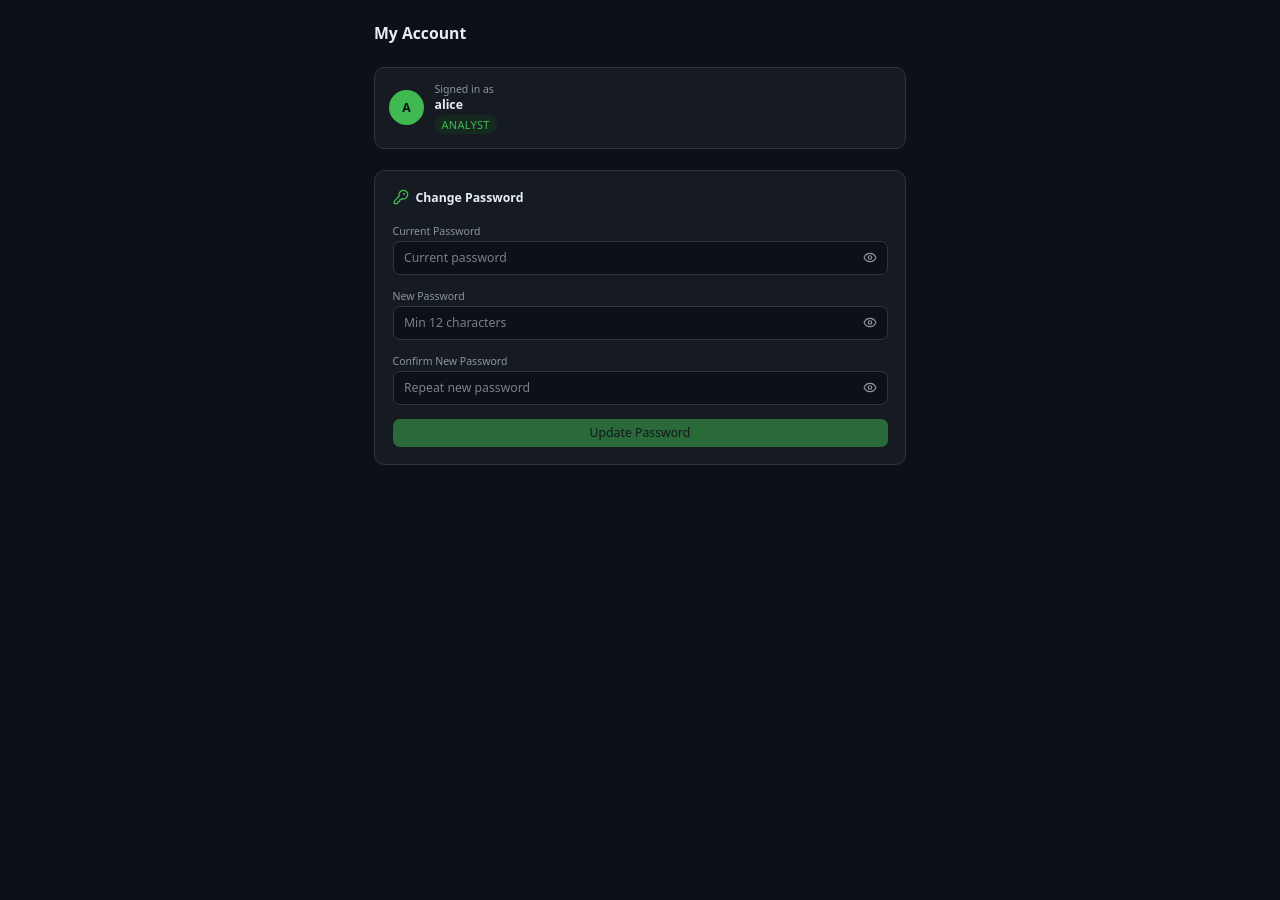
Account page › submits change-password and shows success toast
Type "oldpassword123!" into the password field with placeholder "Current Password".
click(640, 258); type("oldpassword123!")  # box [392, 241, 888, 274]
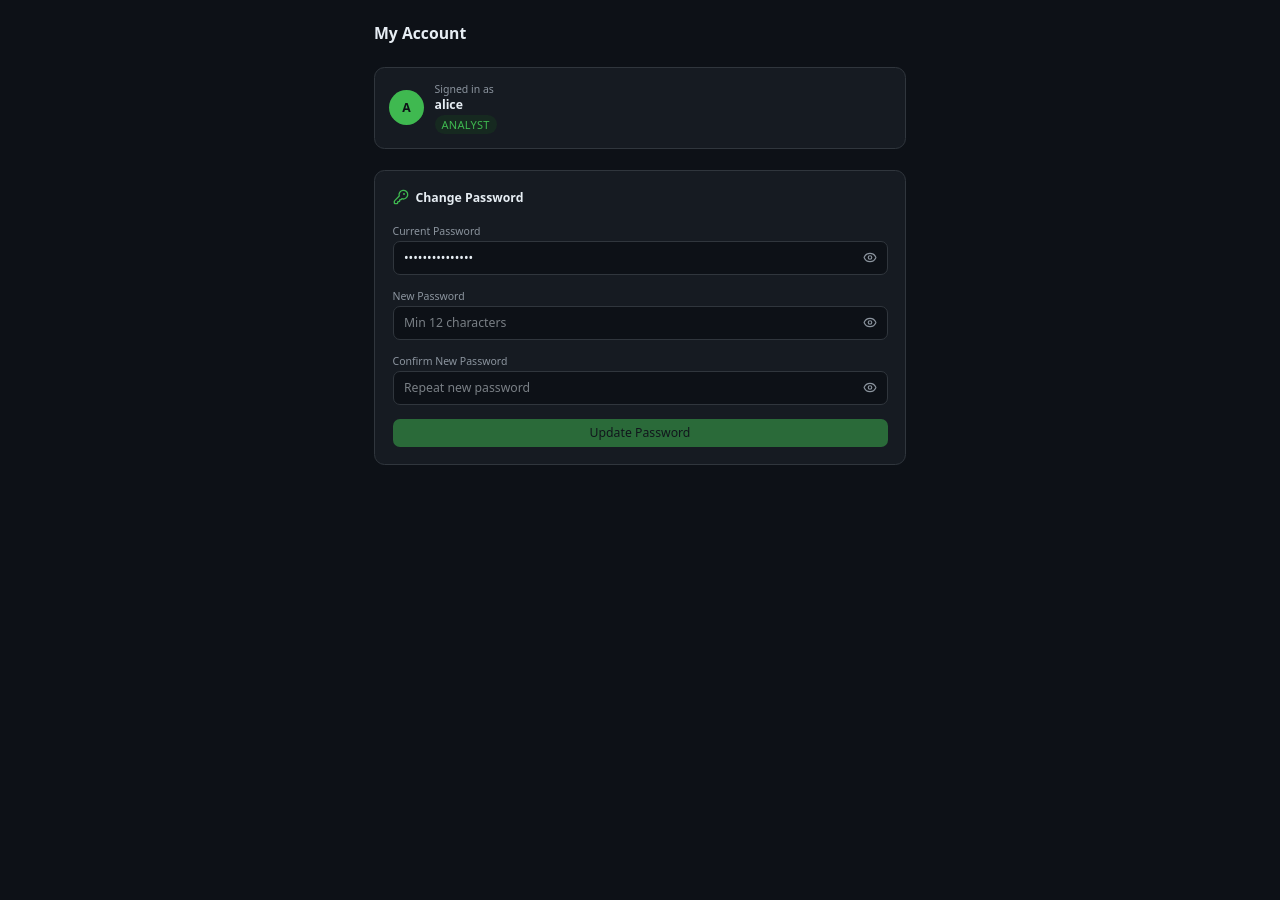
Type "newpassword456!X" into the password field with placeholder "Min 12 characters".
click(640, 323); type("newpassword456!X")  # box [392, 306, 888, 340]
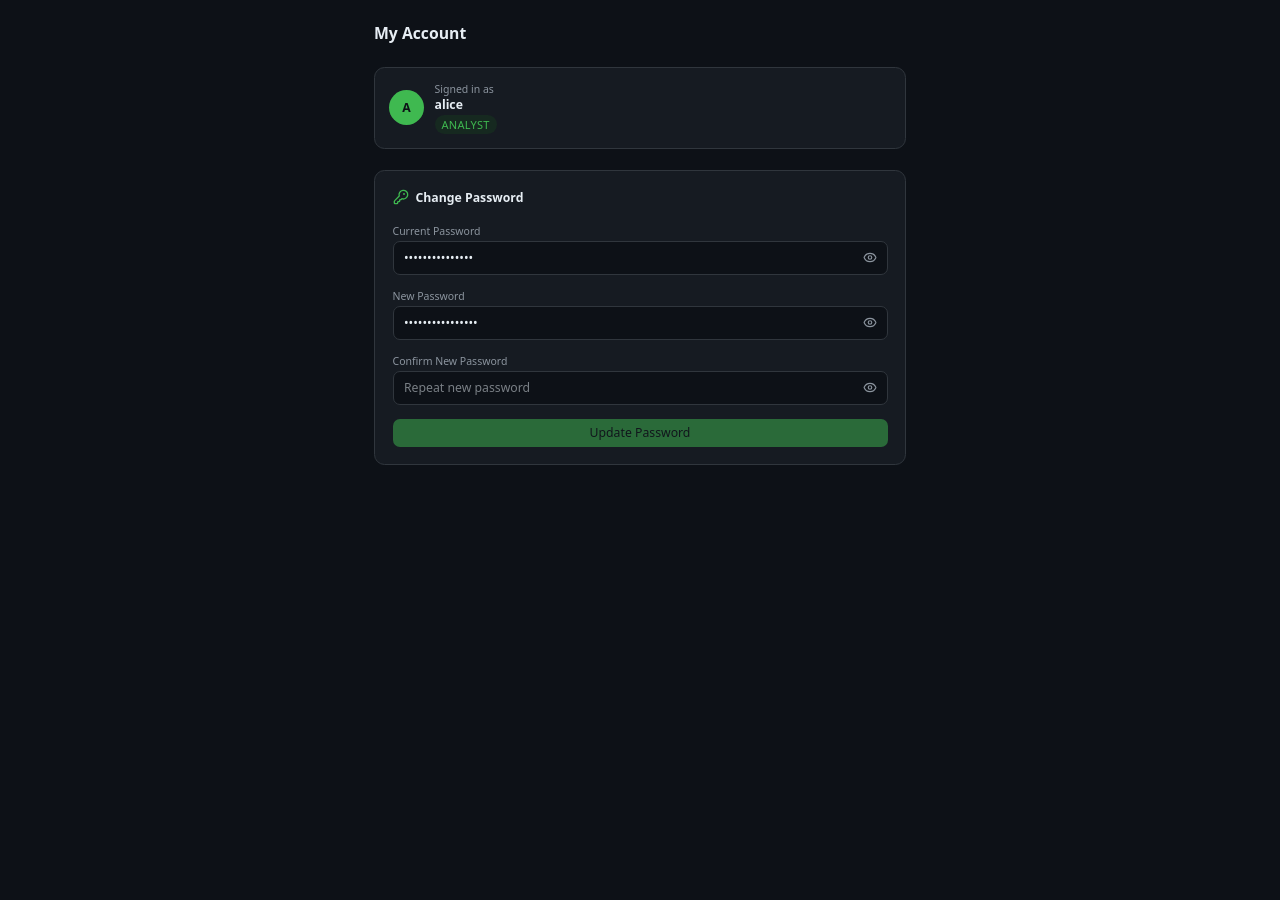
Type "newpassword456!X" into the password field with placeholder "Repeat new password".
click(640, 388); type("newpassword456!X")  # box [392, 371, 888, 404]
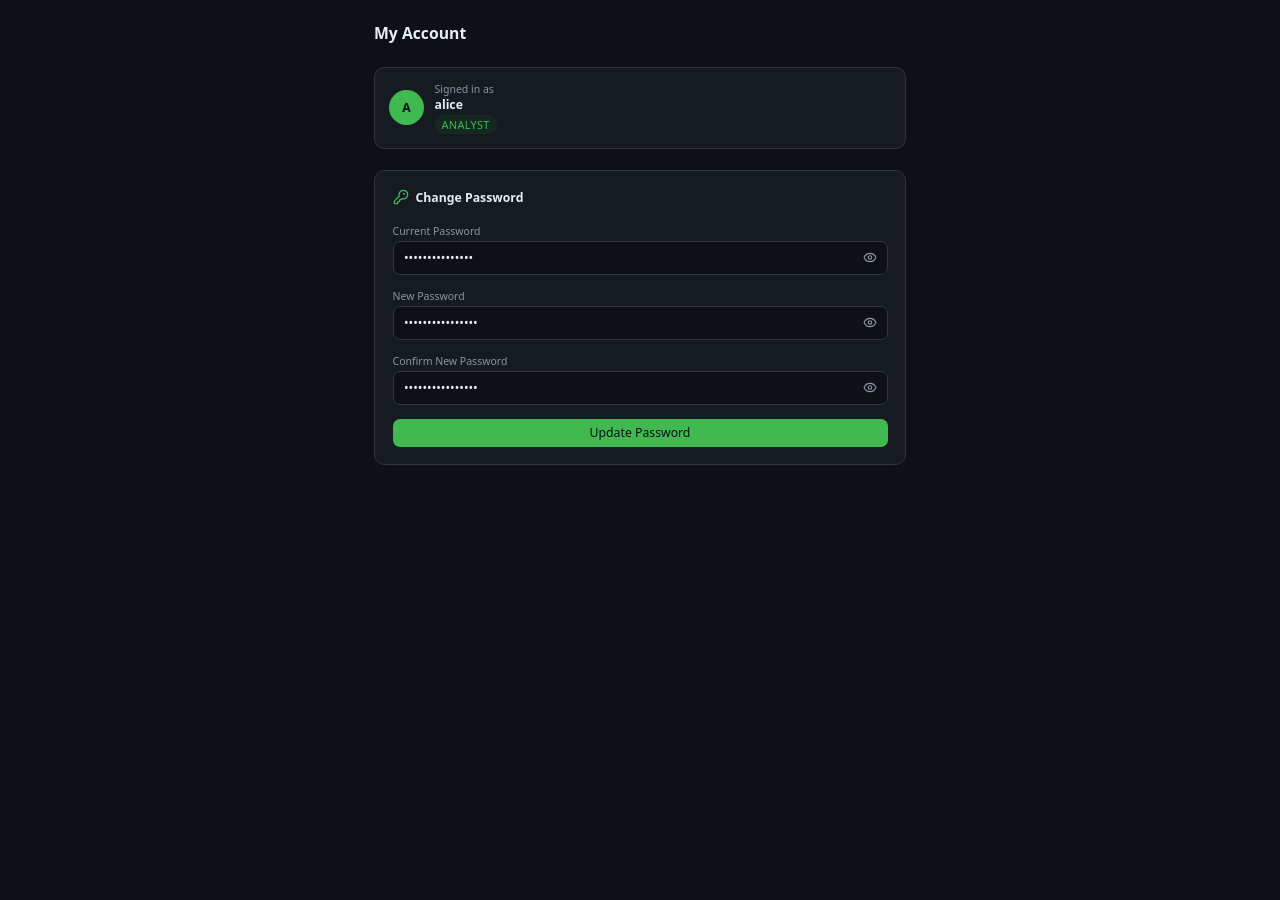
expect the button "Update Password" is enabled: met
Click the button "Update Password".
click(640, 432)  # box [392, 418, 888, 446]
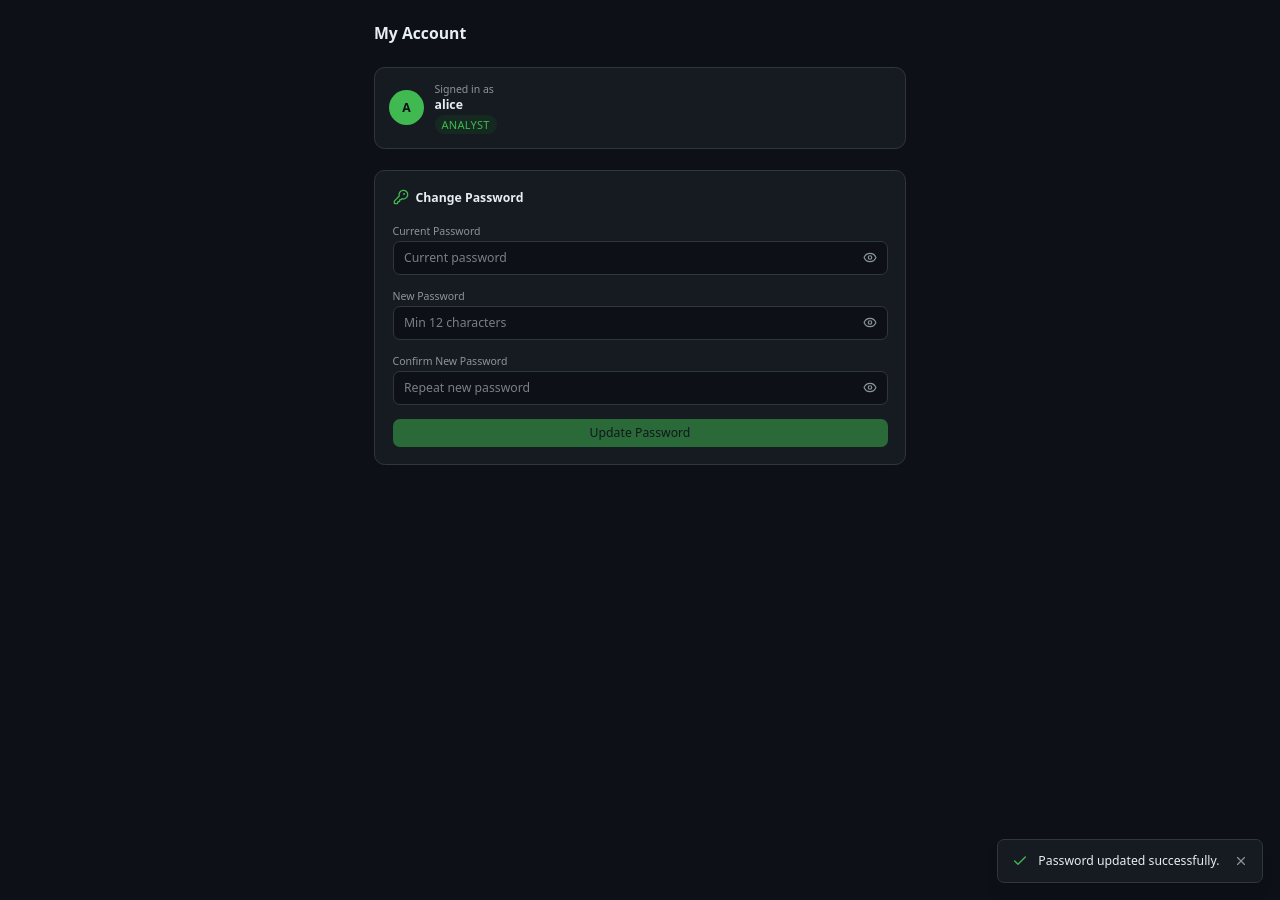
expect the text "Password updated successfully." is shown: met, box [1038, 852, 1220, 869]
